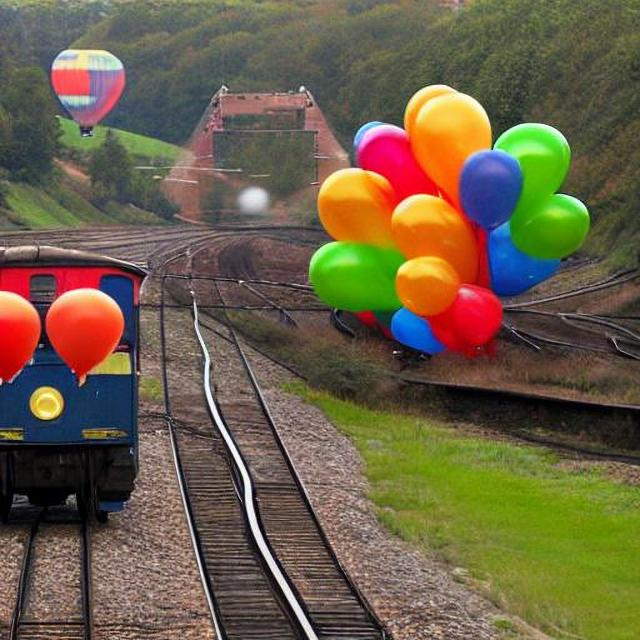balloon: (298, 84, 599, 360), (42, 46, 128, 132), (50, 284, 121, 382), (0, 273, 35, 393)
